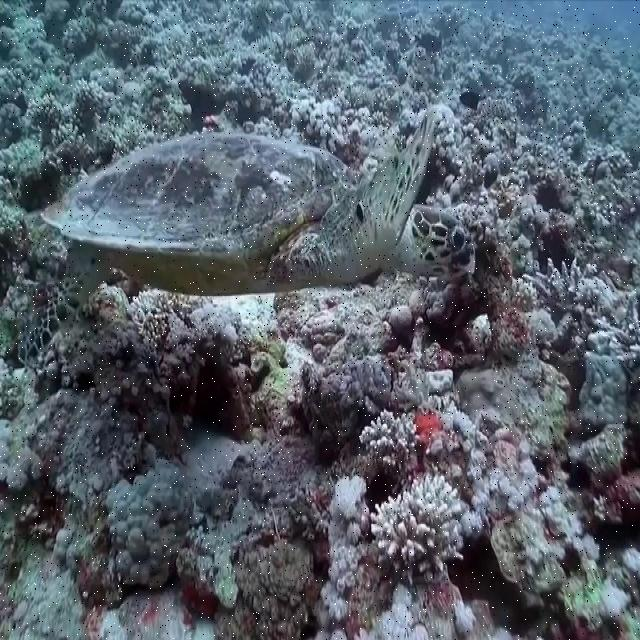fish: (20, 105, 476, 365)
